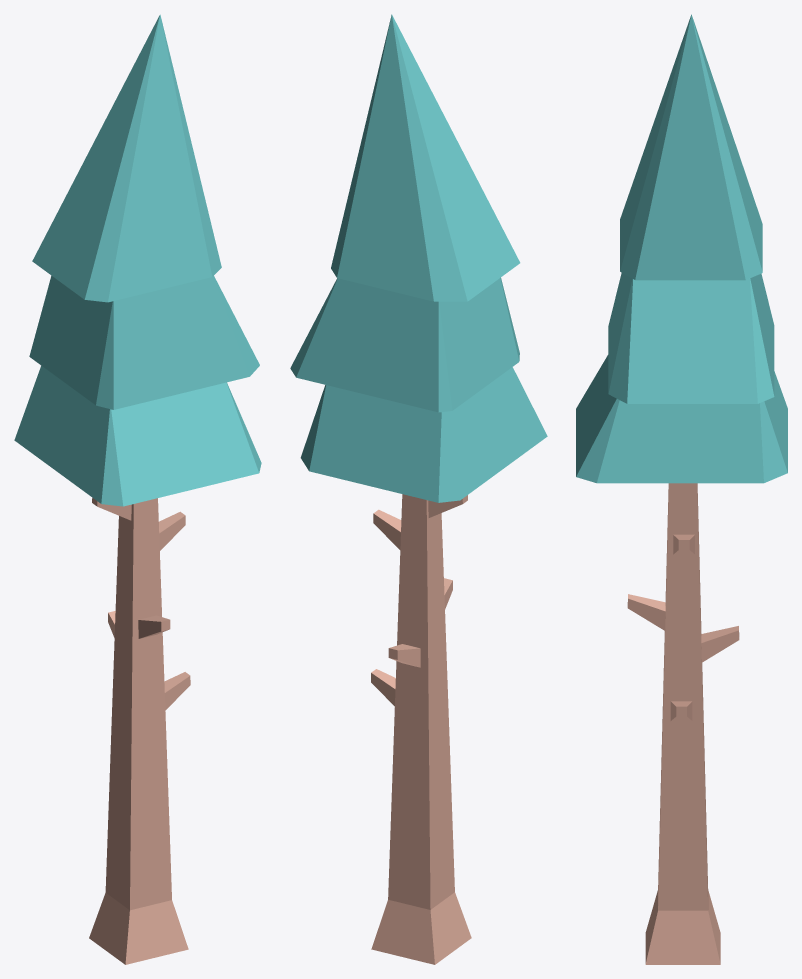
Rendered from tree_pineTallB_detailed.glb.
3 views of the same model, side by side, from view 1: azimuth 30°, elevation 25°; view 2: azimuth 150°, elevation 25°; view 3: azimuth 270°, elevation 25° (orthographic). The views are drawn at different scales.
Parts seen in each view (by area): view 1: tree_pineTallB_detailed; view 2: tree_pineTallB_detailed; view 3: tree_pineTallB_detailed.
Part boxes in pixels (x1=…): tree_pineTallB_detailed: x1=14, y1=14, x2=261, y2=964; tree_pineTallB_detailed: x1=290, y1=14, x2=547, y2=964; tree_pineTallB_detailed: x1=576, y1=14, x2=787, y2=964.
Size of the model in its own units: 0.3863 by 1.93 by 0.392.
